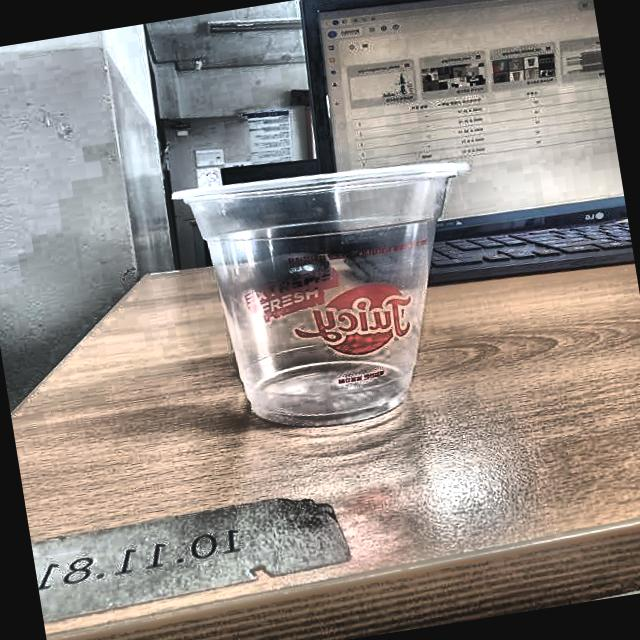plastic cup: (167, 142, 502, 447)
